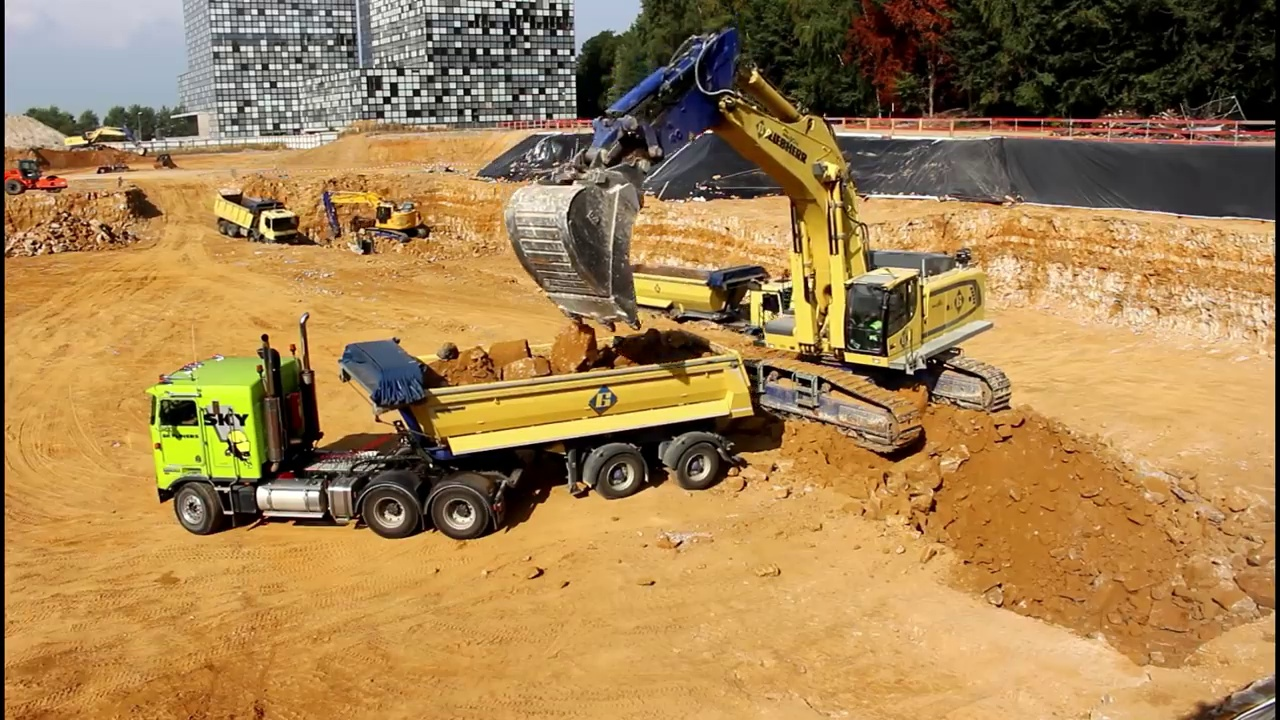compactor: (2, 158, 71, 199)
excavator: (501, 24, 1019, 457), (318, 183, 433, 252), (64, 123, 147, 158)
truck: (139, 307, 766, 544), (618, 251, 822, 367), (212, 189, 304, 252)
